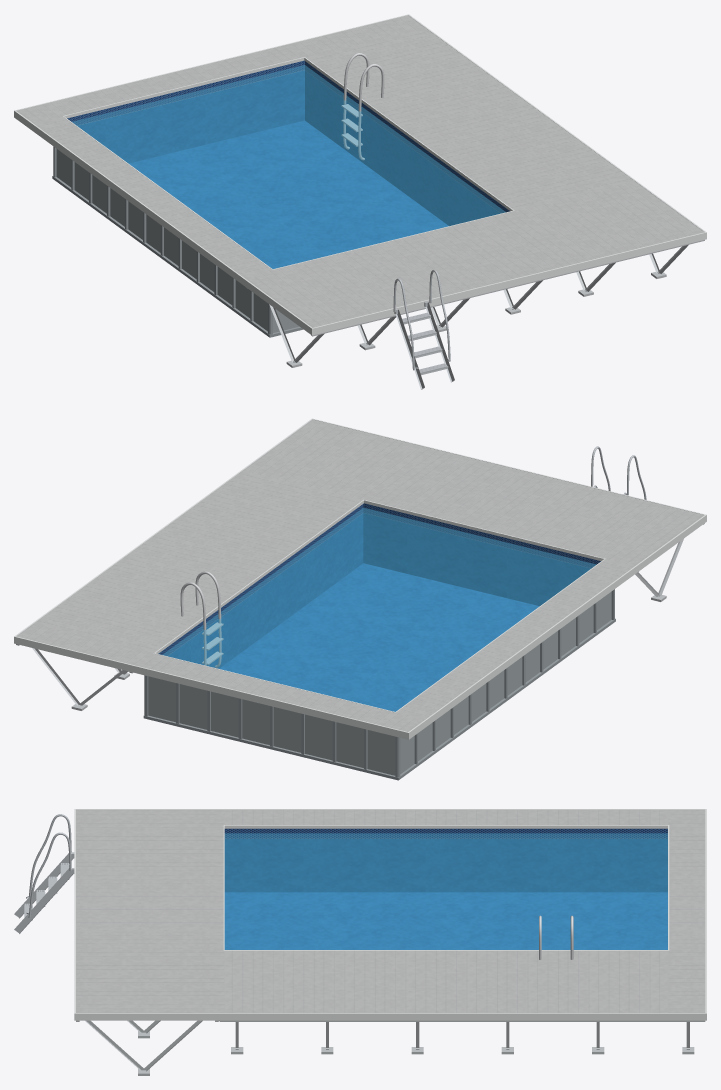
The model's file is kayak-pool-16x24-gray-endside-ag-nofence.c76943b43d.glb.
3 renders of one model, top to bottom at view 1: azimuth 30°, elevation 25°; view 2: azimuth 150°, elevation 25°; view 3: azimuth 270°, elevation 25°, orthographic. The views are drawn at different scales.
Visible parts, largest first — view 1: deck, water, liner_floor, liner_wall, fascia, wall, stud, upright, ladder, steel; view 2: deck, water, liner_floor, liner_wall, wall, fascia, upright, stud, steel; view 3: deck, water, liner_wall, liner_floor, fascia, stud, ladder.
Part boxes in pixels (left/top/right/bottom): deck: left=16, top=15, right=704, bottom=327; water: left=72, top=65, right=505, bottom=268; liner_floor: left=129, top=120, right=448, bottom=268; liner_wall: left=67, top=60, right=509, bottom=225; fascia: left=14, top=14, right=706, bottom=335; wall: left=56, top=149, right=299, bottom=332; stud: left=245, top=240, right=704, bottom=367; upright: left=52, top=146, right=303, bottom=337; ladder: left=393, top=270, right=454, bottom=389; steel: left=341, top=53, right=384, bottom=160; deck: left=16, top=419, right=704, bottom=731; water: left=162, top=508, right=596, bottom=711; liner_floor: left=219, top=563, right=539, bottom=711; liner_wall: left=158, top=503, right=600, bottom=668; wall: left=148, top=591, right=611, bottom=775; fascia: left=14, top=418, right=706, bottom=739; upright: left=143, top=589, right=615, bottom=780; stud: left=16, top=523, right=704, bottom=710; steel: left=180, top=571, right=223, bottom=667; deck: left=76, top=810, right=705, bottom=1012; water: left=224, top=833, right=667, bottom=949; liner_wall: left=224, top=828, right=667, bottom=892; liner_floor: left=224, top=892, right=667, bottom=949; fascia: left=74, top=809, right=706, bottom=1020; stud: left=76, top=1020, right=705, bottom=1075; ladder: left=14, top=814, right=74, bottom=933.
Bounding box in the file's own units: 7.93 × 1.9 × 11.35.
10 materials, 3 textured.
